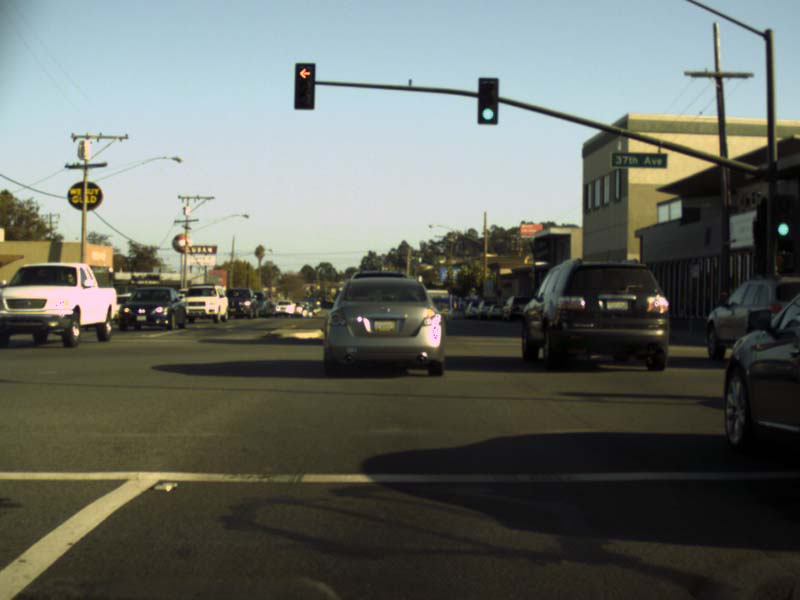Green: (476, 76, 498, 123), (774, 198, 791, 238)
Red: (295, 62, 315, 109)
